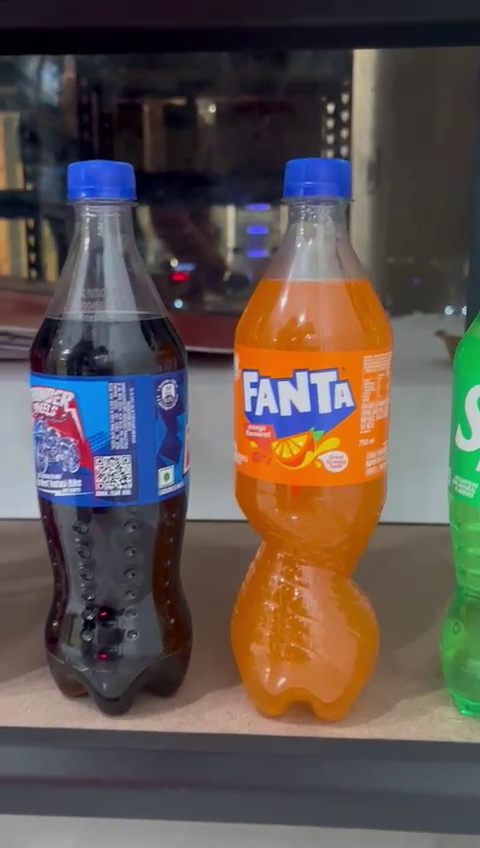Fanta: (221, 149, 408, 729)
Thums-up: (21, 155, 214, 710)
